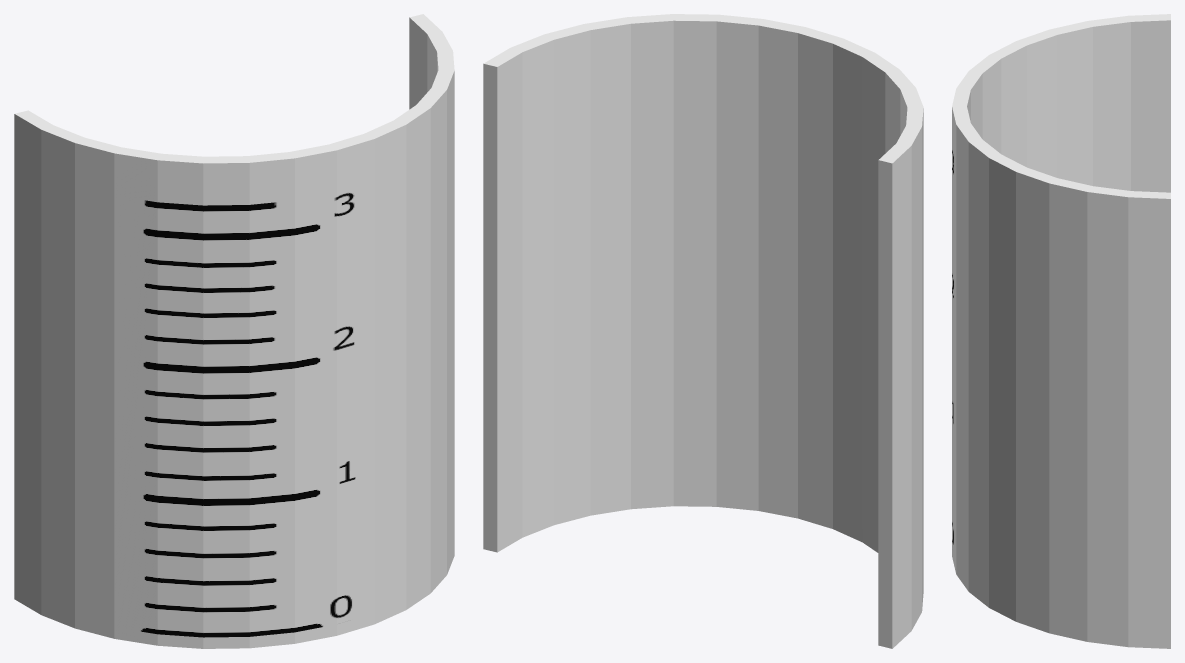
File: flask.fbx
The picture shows the model from 3 angles, left to right: view 1: azimuth 30°, elevation 25°; view 2: azimuth 150°, elevation 25°; view 3: azimuth 270°, elevation 25°; orthographic projection. The views are drawn at different scales.
Parts seen in each view (by area): view 1: Мерный стакан 3л; view 2: Мерный стакан 3л; view 3: Мерный стакан 3л.
Boxes of the visible parts, left/top/right/bottom form: Мерный стакан 3л: left=14, top=14, right=454, bottom=648; Мерный стакан 3л: left=483, top=14, right=923, bottom=648; Мерный стакан 3л: left=952, top=14, right=1170, bottom=648.
Size of the model in its own units: 1.58 by 1.79 by 0.7881.
Materials: 1 (1 with a texture image).
